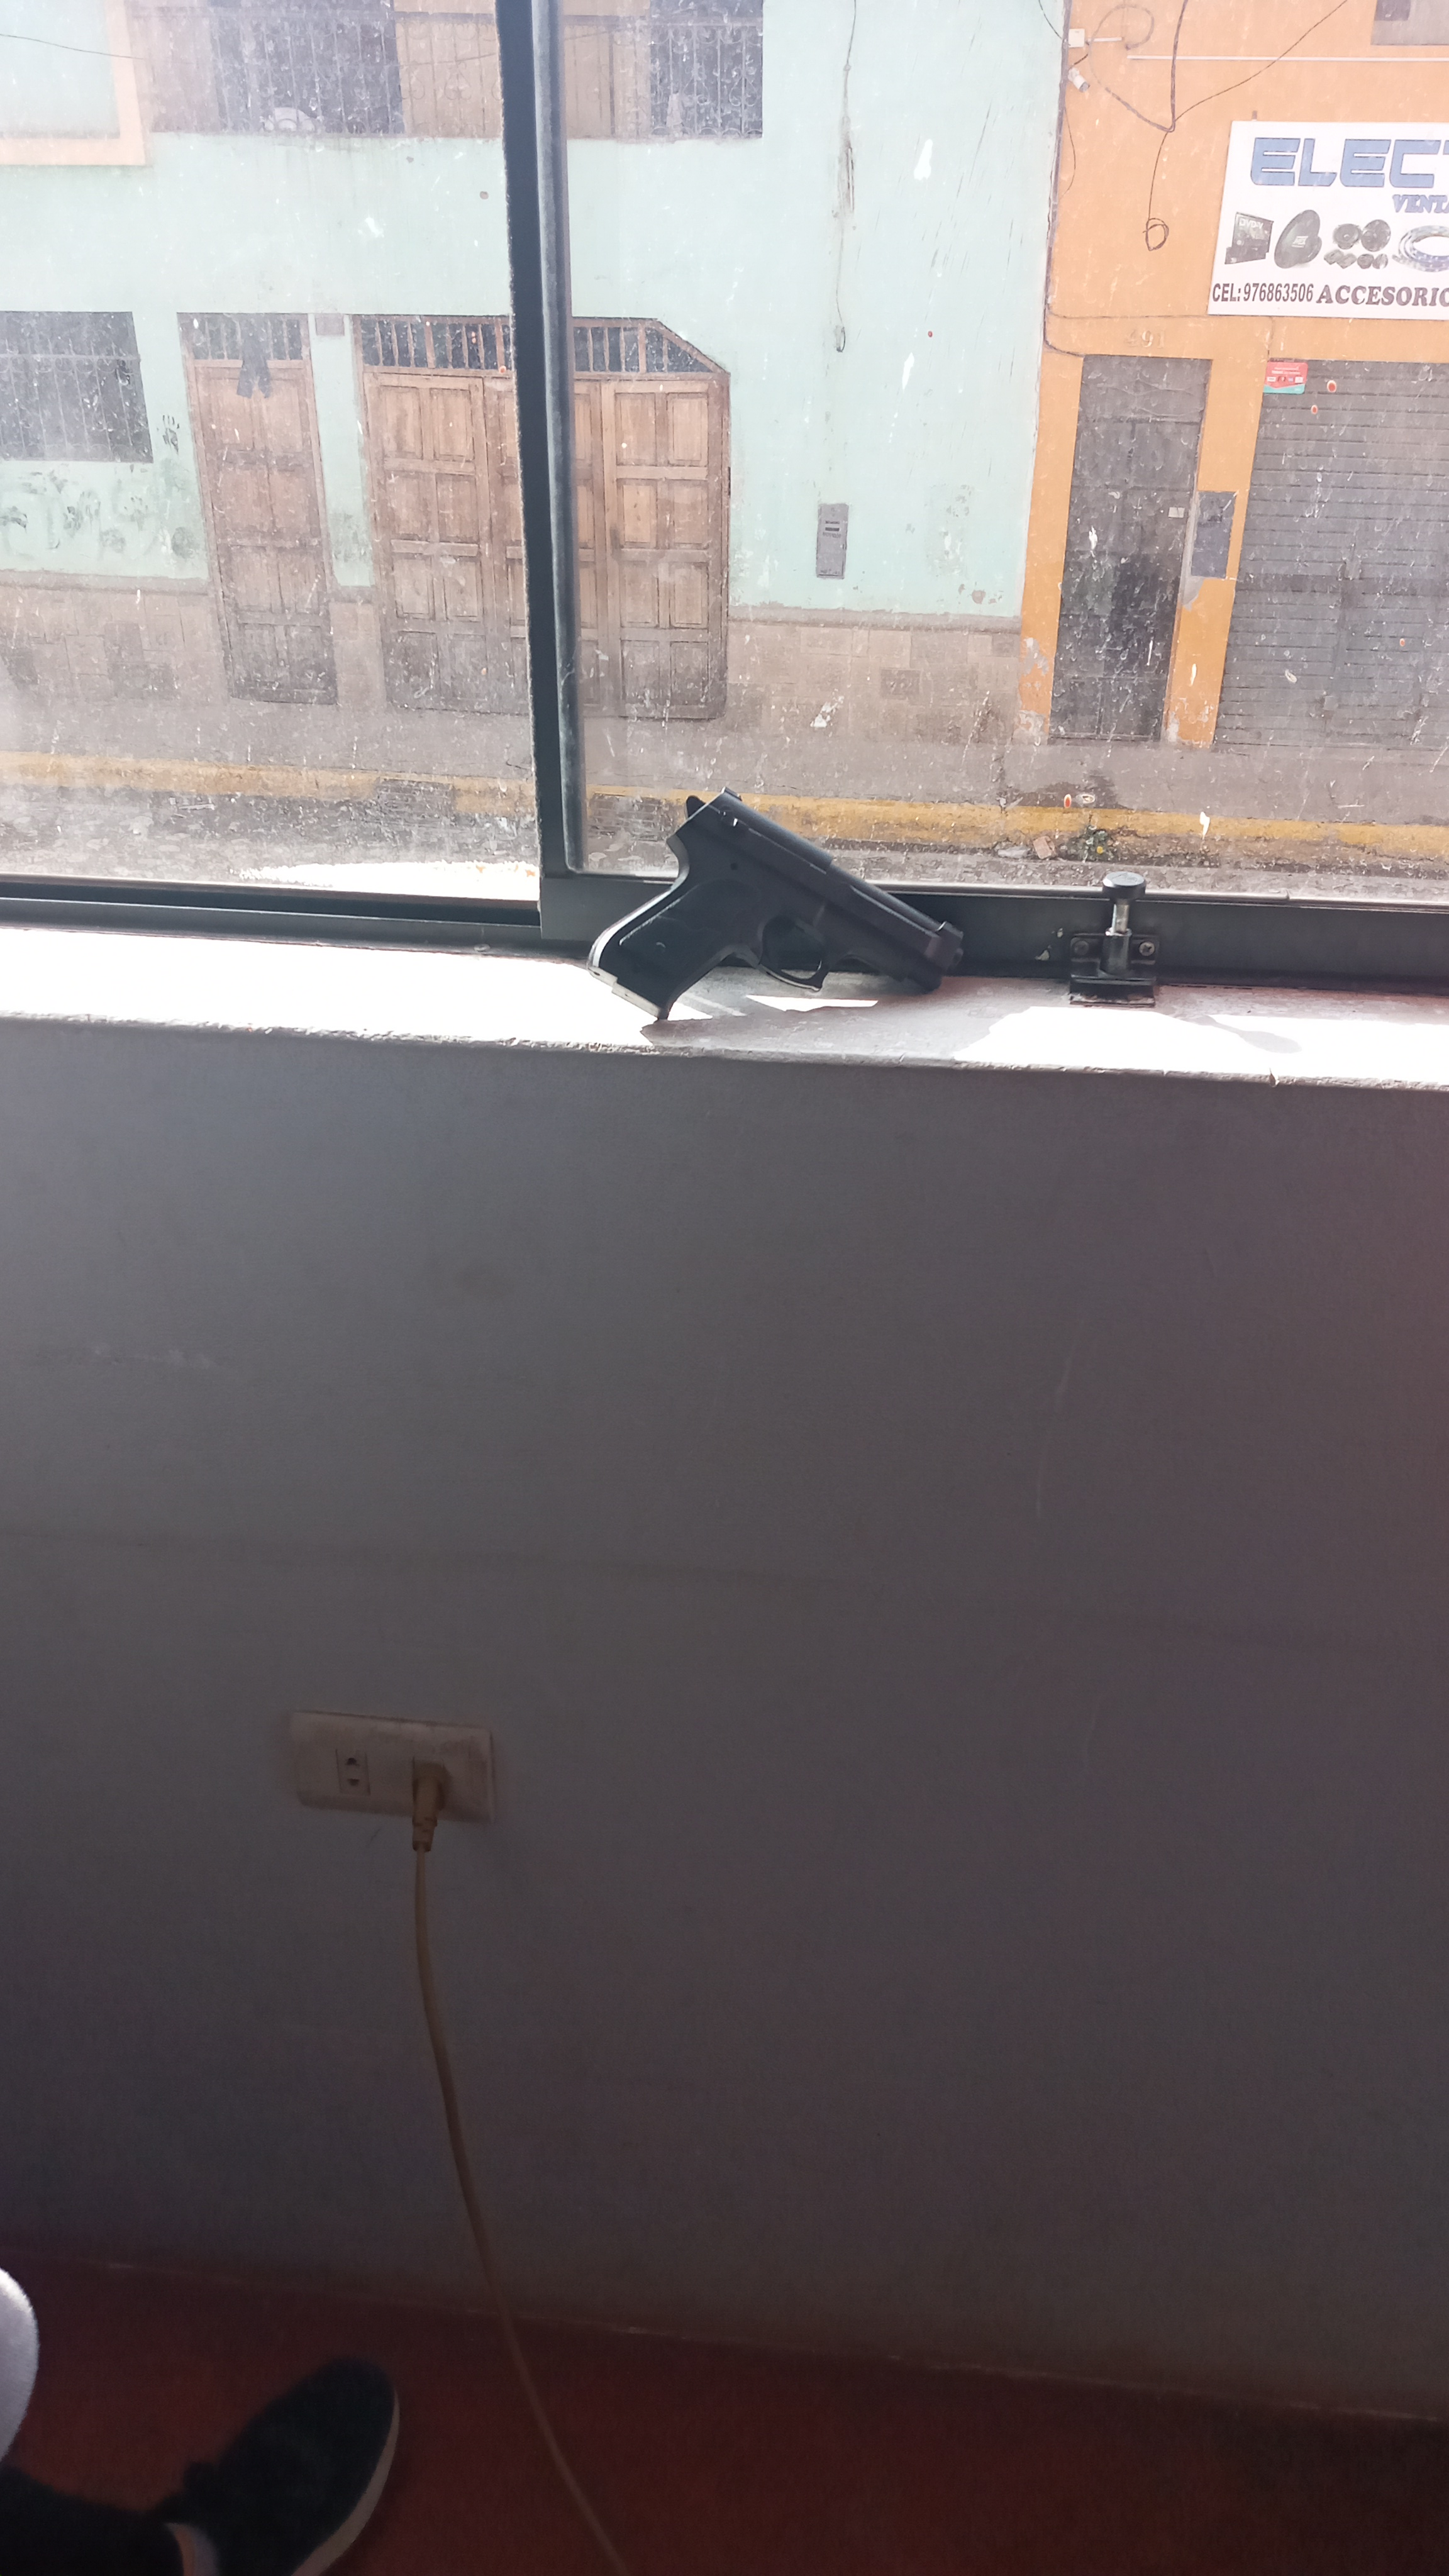Arma: (651, 812, 966, 1001)
